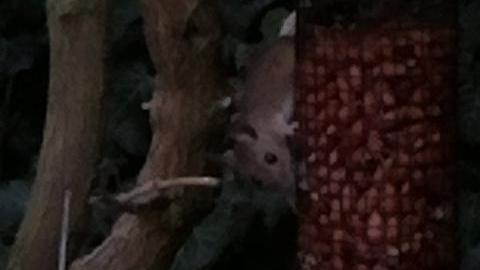mouse: (222, 40, 299, 190)
